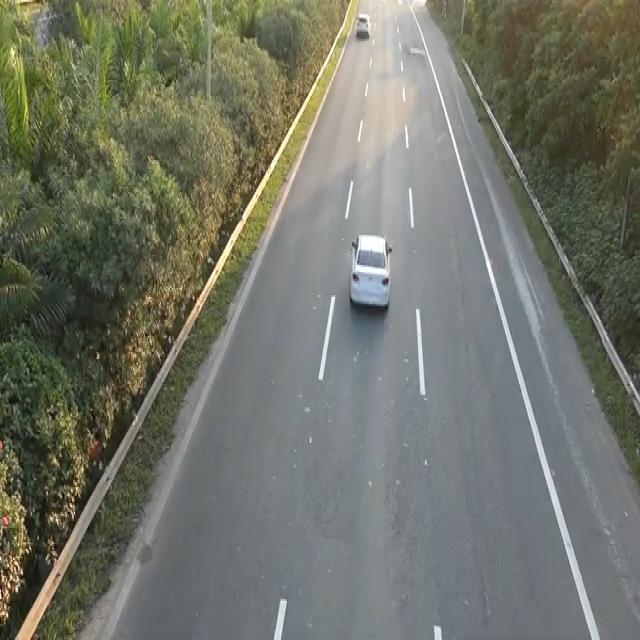bus: (347, 228, 393, 311)
car: (354, 11, 371, 37)
